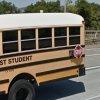Bus: (4, 11, 96, 94)
